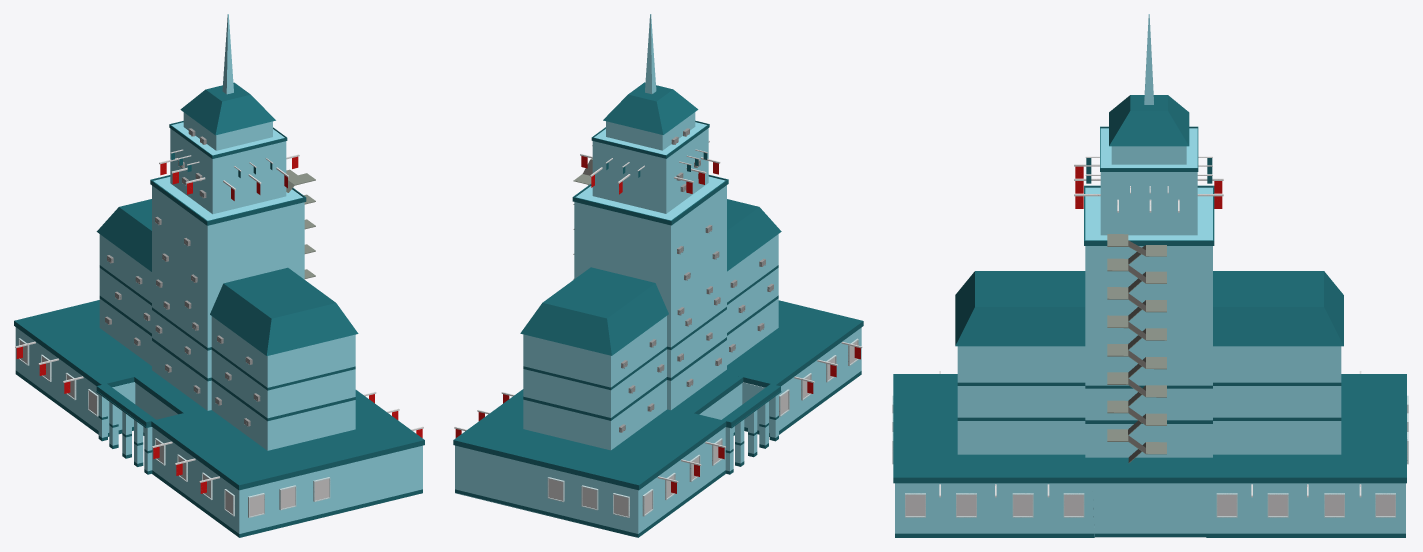
File: BGN_BCW TOWER.fbx
3 views of the same model, side by side, from view 1: azimuth 30°, elevation 25°; view 2: azimuth 150°, elevation 25°; view 3: azimuth 270°, elevation 25° (orthographic). The views are drawn at different scales.
Parts seen in each view (by area): view 1: BGN_BCW_TOWER; view 2: BGN_BCW_TOWER; view 3: BGN_BCW_TOWER.
Part boxes in pixels (x1,y1,x2,y2): BGN_BCW_TOWER: (14,14,424,537); BGN_BCW_TOWER: (453,14,863,537); BGN_BCW_TOWER: (892,14,1408,537).
Bounding box in the file's own units: 3632 × 6505 × 6349.
